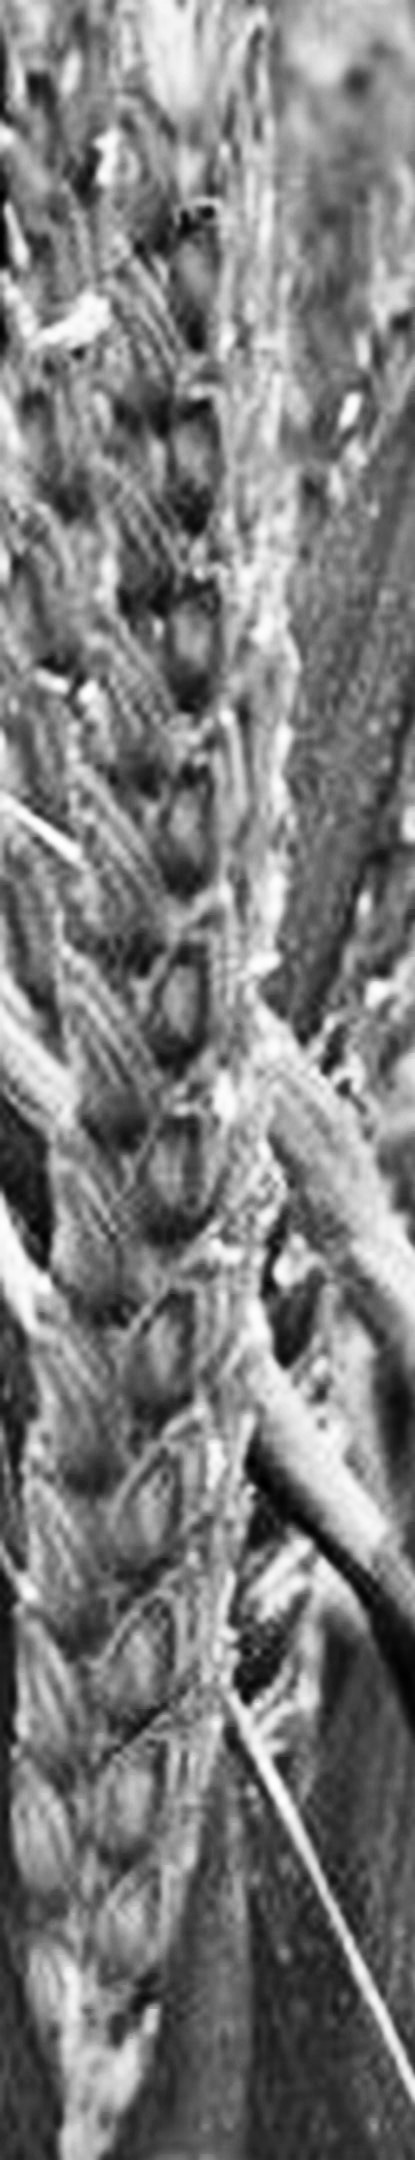Healthy Wheat: (6, 163, 325, 2024)
